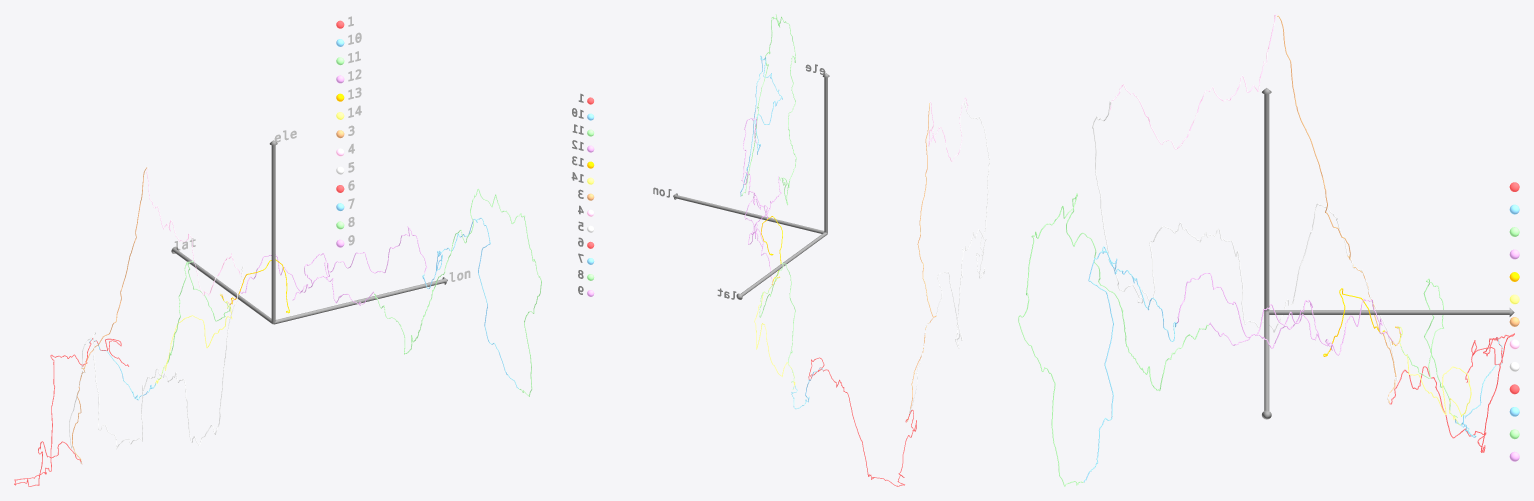
File: sola.glb
3 renders of one model, left to right at view 1: azimuth 30°, elevation 25°; view 2: azimuth 150°, elevation 25°; view 3: azimuth 270°, elevation 25°, orthographic. The views are drawn at different scales.
Parts seen in each view (by area): view 1: Data, arrow_ele, arrow_lon, arrow_lat; view 2: Data, arrow_ele, arrow_lon, arrow_lat; view 3: Data, arrow_ele, arrow_lat, arrow_lon.
Part boxes in pixels (<box>): Data: <box>14,167,541,486</box>; arrow_ele: <box>269,140,277,323</box>; arrow_lon: <box>273,277,447,324</box>; arrow_lat: <box>171,246,273,324</box>; Data: <box>740,14,989,486</box>; arrow_ele: <box>822,73,829,233</box>; arrow_lon: <box>673,193,824,233</box>; arrow_lat: <box>736,232,827,299</box>; Data: <box>1018,14,1514,486</box>; arrow_ele: <box>1262,88,1271,311</box>; arrow_lat: <box>1268,308,1514,316</box>; arrow_lon: <box>1262,311,1271,419</box>.
Bounding box in the file's own units: 0.2141 × 0.2047 × 0.2022.
Materials: 26 (16 with a texture image).
